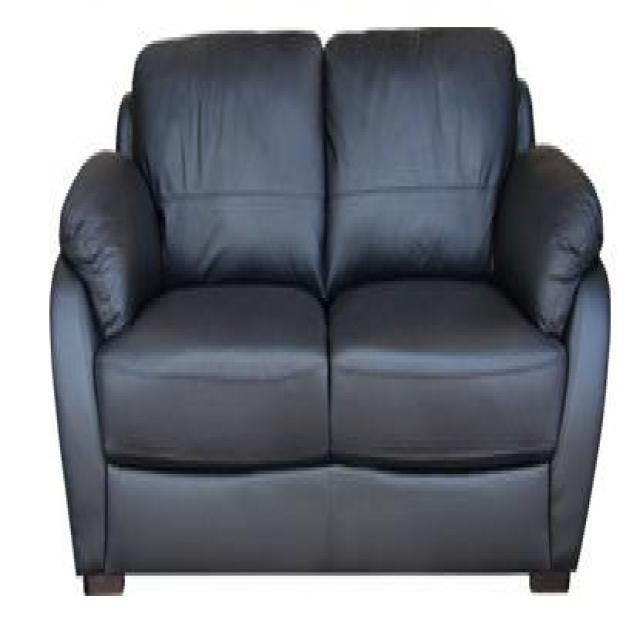sofa: (46, 23, 613, 600)
